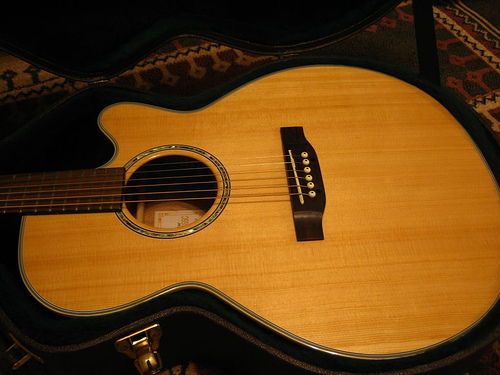guitar: (1, 65, 498, 368)
